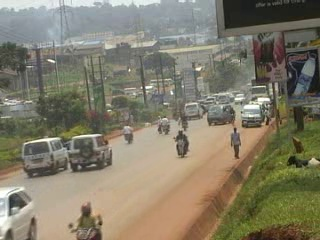Car: (0, 183, 42, 236), (67, 132, 114, 173), (232, 91, 246, 104), (200, 100, 218, 110)
Motorcycle: (66, 200, 109, 236), (170, 128, 191, 159), (119, 121, 134, 144), (159, 114, 172, 135), (179, 111, 190, 132)
